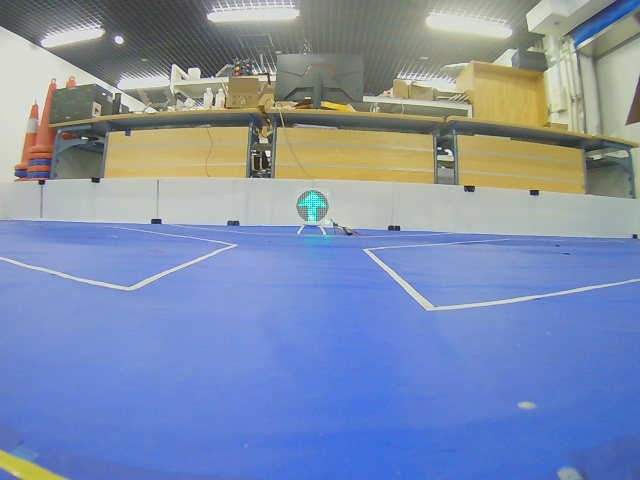straight_green: (296, 190, 328, 223)
